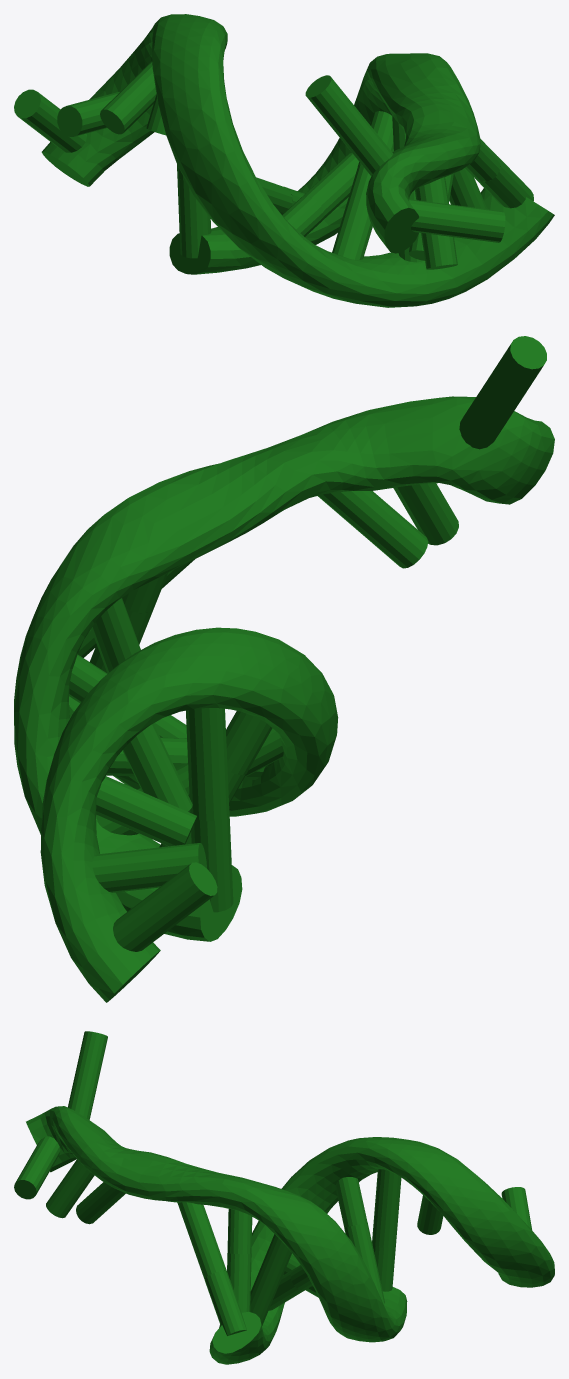
The model's file is 3DPX-016415.glb.
3 renders of one model, top to bottom at view 1: azimuth 30°, elevation 25°; view 2: azimuth 150°, elevation 25°; view 3: azimuth 270°, elevation 25°, orthographic. The views are drawn at different scales.
Visible parts, largest first — view 1: t5_fen_substrate-ribbon-secondary_0-pymesh; view 2: t5_fen_substrate-ribbon-secondary_0-pymesh; view 3: t5_fen_substrate-ribbon-secondary_0-pymesh.
Part boxes in pixels (box(x1,y1,x2,y2)): t5_fen_substrate-ribbon-secondary_0-pymesh: box(14, 14, 554, 307); t5_fen_substrate-ribbon-secondary_0-pymesh: box(14, 336, 554, 1002); t5_fen_substrate-ribbon-secondary_0-pymesh: box(14, 1031, 554, 1364).
Bounding box in the file's own units: 29.84 × 29.15 × 53.76.
